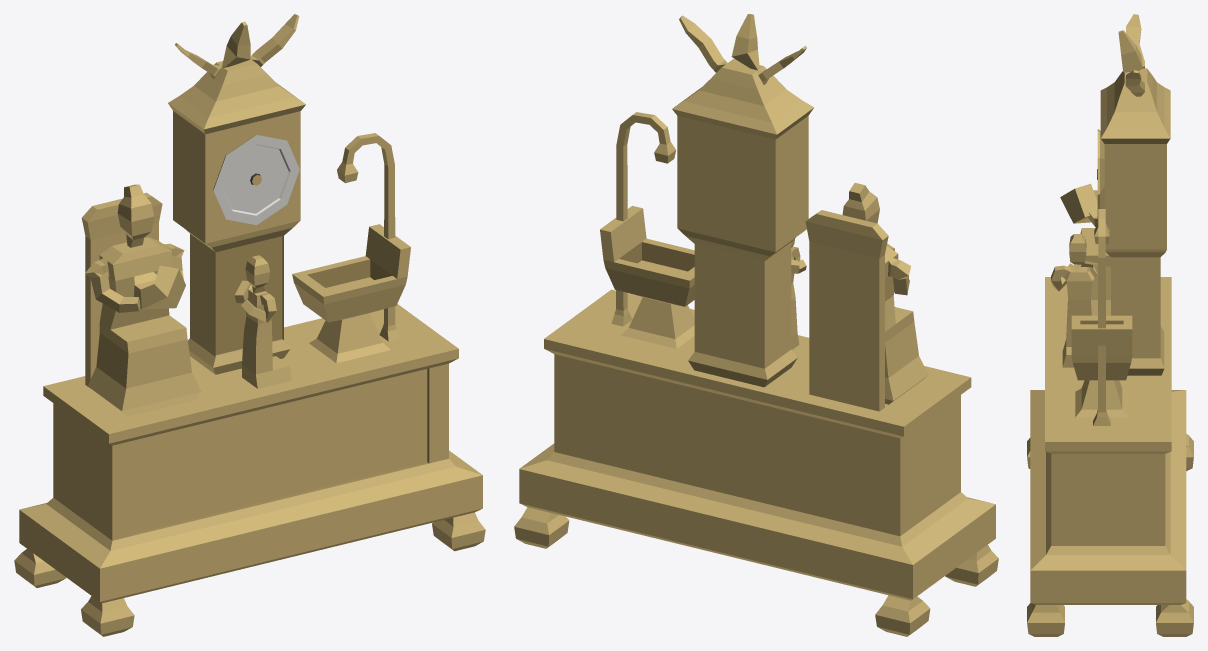
The model's file is relojmaternidad.fbx.
3 views of the same model, side by side, from view 1: azimuth 30°, elevation 25°; view 2: azimuth 150°, elevation 25°; view 3: azimuth 270°, elevation 25° (orthographic). The views are drawn at different scales.
Visible parts, largest first — view 1: reloj_maternidad; view 2: reloj_maternidad; view 3: reloj_maternidad.
Part boxes in pixels (x1,y1,x2,y2): reloj_maternidad: (14,14,485,636); reloj_maternidad: (514,14,998,636); reloj_maternidad: (1027,14,1193,636).
Size of the model in its own units: 33.88 by 45.07 by 13.15.
